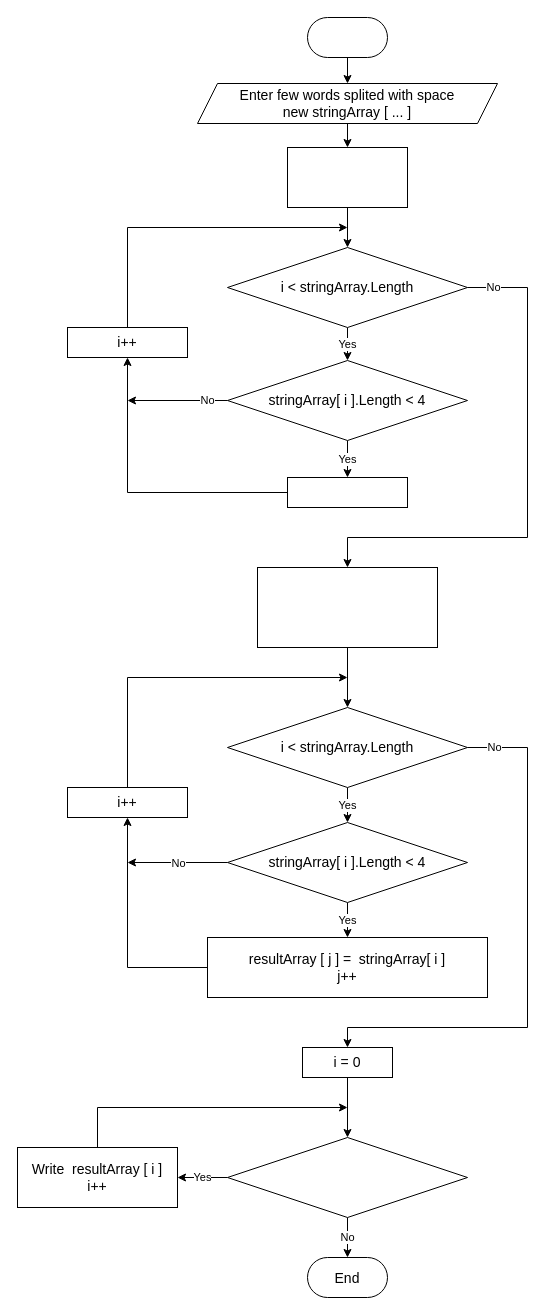
Some shapes in this 553 by 1315 pixel diagram are drawn without their labels. The centre of each missing label's shape, as x and y in pixels:
"count = 0 i = 0" goes at (347,177).
"count++" goes at (347,492).
"i < resultArray.Length" goes at (347,1177).
"new resultArray [count] i = 0 j = 0" goes at (347,607).
"Start" goes at (347,37).
